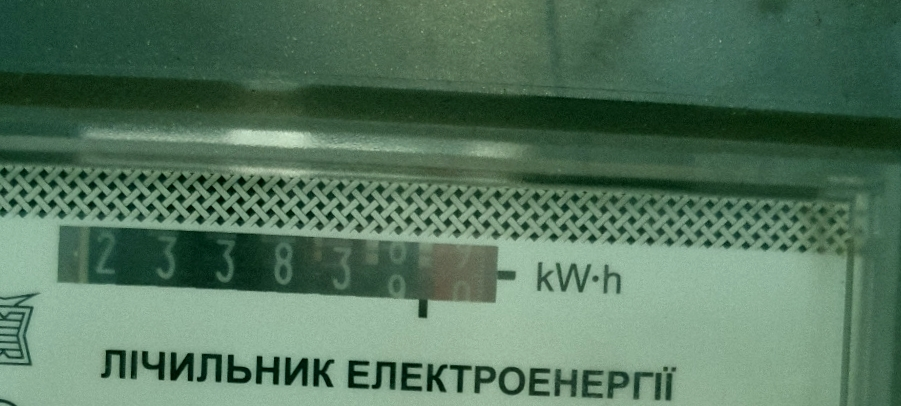0: (450, 276, 473, 303)
2: (92, 229, 119, 276)
3: (150, 230, 181, 280), (208, 234, 239, 284), (327, 243, 353, 290)
8: (267, 239, 297, 286), (385, 238, 409, 266)
9: (451, 240, 474, 271), (384, 270, 406, 300)
screen: (43, 213, 519, 325)
